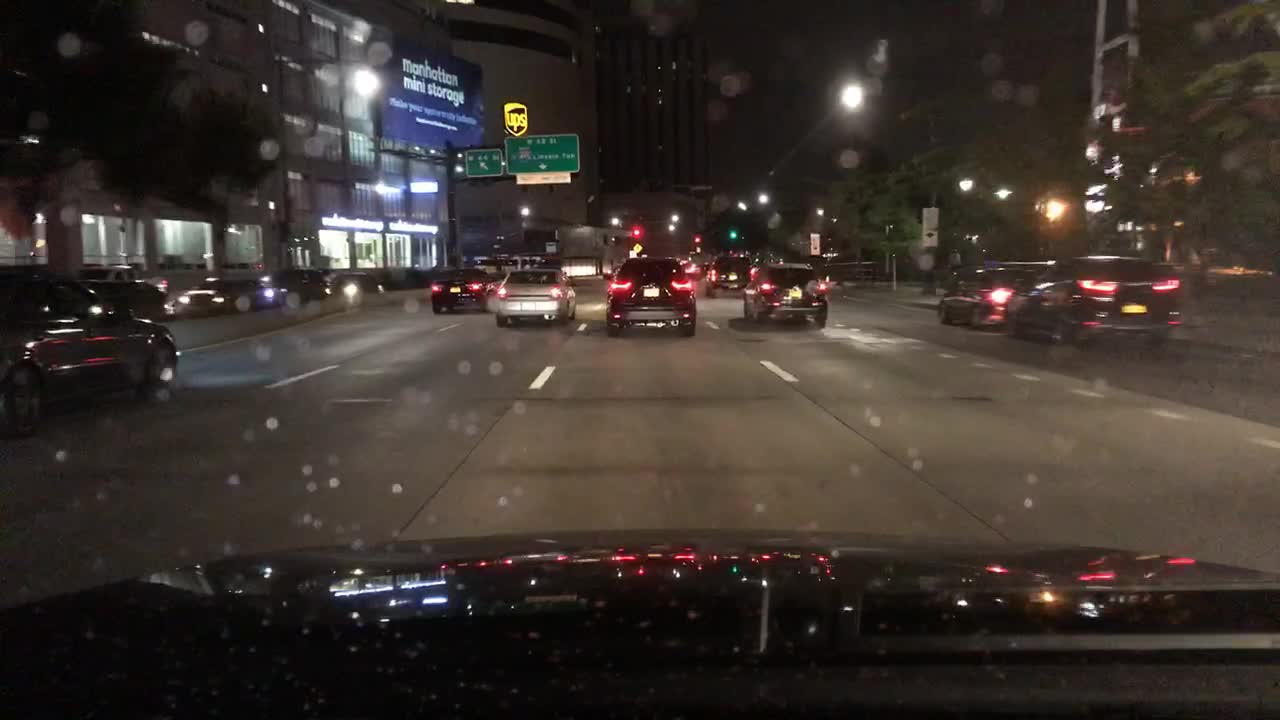car: (0, 265, 179, 442), (999, 253, 1183, 354), (604, 256, 695, 339), (933, 263, 1038, 326), (739, 261, 830, 327), (492, 266, 577, 327), (71, 277, 174, 322), (174, 273, 273, 315), (428, 268, 492, 315), (260, 266, 329, 300), (700, 253, 756, 293), (327, 273, 381, 295), (678, 256, 700, 280)
traffic light: (630, 225, 641, 241), (692, 234, 702, 248), (727, 223, 736, 236)
traffic sign: (504, 135, 580, 173), (462, 147, 501, 179), (515, 172, 571, 184), (919, 206, 940, 226), (921, 229, 938, 248), (808, 231, 820, 253)
